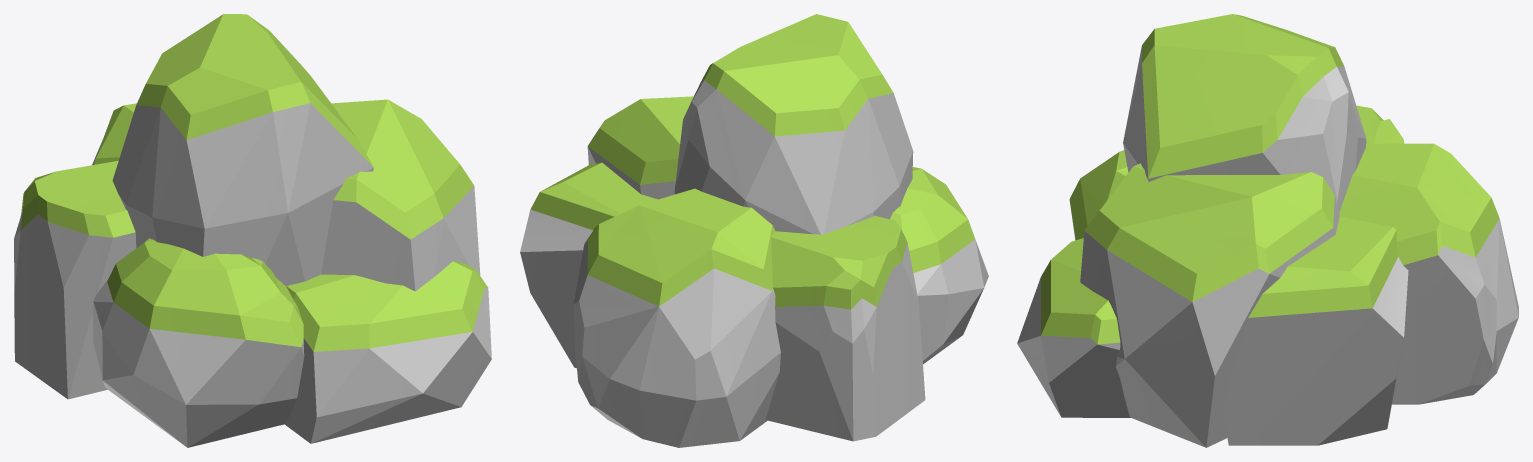
The model's file is dm11.rock.sm.v1.01.glb.
3 renders of one model, left to right at view 1: azimuth 30°, elevation 25°; view 2: azimuth 150°, elevation 25°; view 3: azimuth 270°, elevation 25°, orthographic. The views are drawn at different scales.
Visible parts, largest first — view 1: PP_Rock_Moss_Grown_09.001_PP_Standard_Material_0; view 2: PP_Rock_Moss_Grown_09.001_PP_Standard_Material_0; view 3: PP_Rock_Moss_Grown_09.001_PP_Standard_Material_0.
Boxes of the visible parts, <box> form: PP_Rock_Moss_Grown_09.001_PP_Standard_Material_0: <box>14,14,491,447</box>; PP_Rock_Moss_Grown_09.001_PP_Standard_Material_0: <box>520,14,988,447</box>; PP_Rock_Moss_Grown_09.001_PP_Standard_Material_0: <box>1017,14,1518,447</box>.
Size of the model in its own units: 3.36 by 2.74 by 3.86.
Materials: 1 (1 with a texture image).
